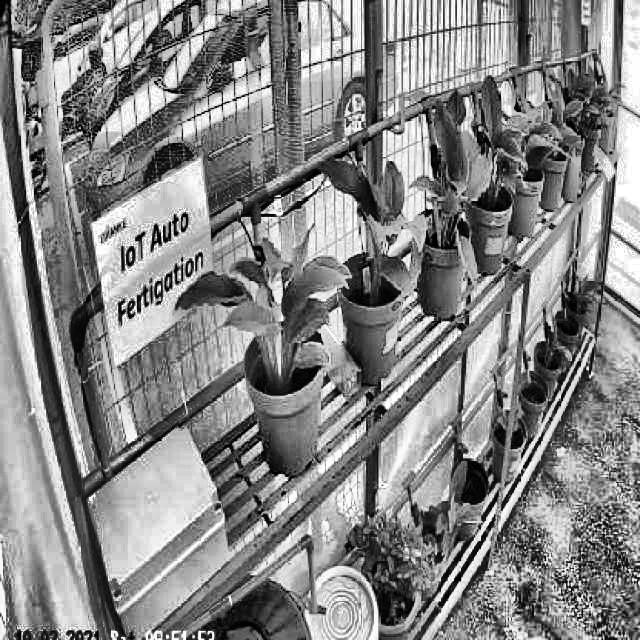plants: (166, 220, 352, 378), (399, 89, 479, 294), (321, 152, 430, 298), (442, 71, 530, 214)
